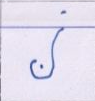anusvara: (61, 11, 65, 15)
